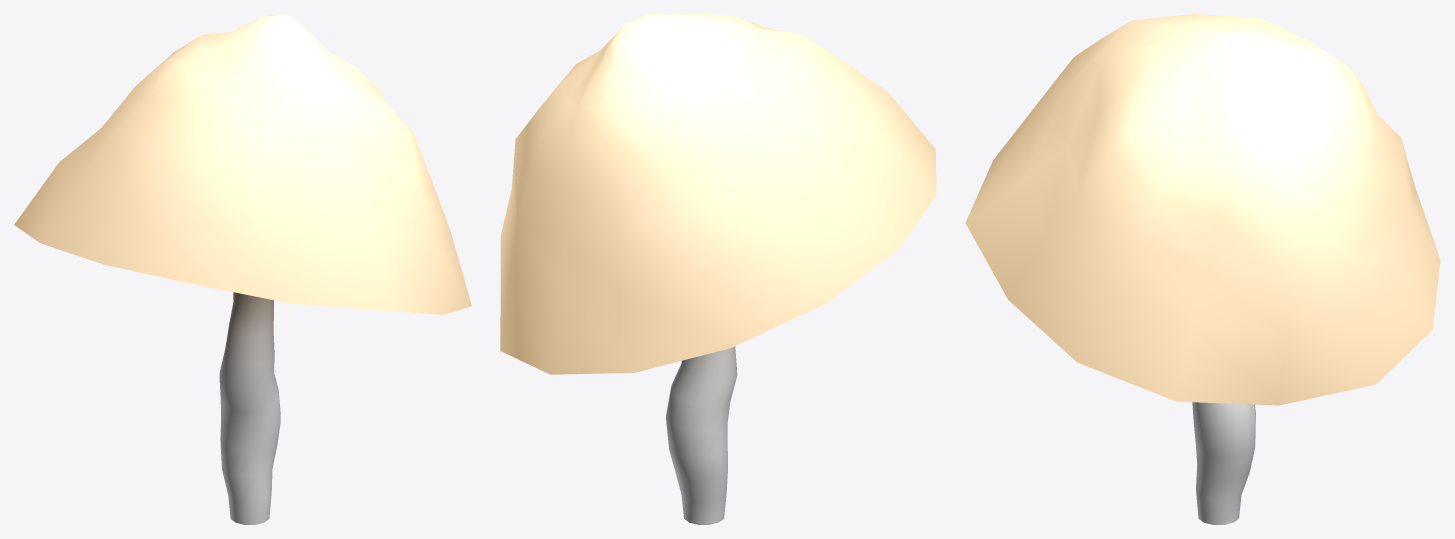
Rendered from mushroom_4.glb.
3 views of the same model, side by side, from view 1: azimuth 30°, elevation 25°; view 2: azimuth 150°, elevation 25°; view 3: azimuth 270°, elevation 25° (orthographic). The views are drawn at different scales.
Visible parts, largest first — view 1: geo1; view 2: geo1; view 3: geo1.
Part boxes in pixels (x1,y1,x2,y2): geo1: (14, 14, 471, 524); geo1: (500, 14, 936, 524); geo1: (965, 14, 1440, 524).
Size of the model in its own units: 0.2563 by 0.31 by 0.2661.
